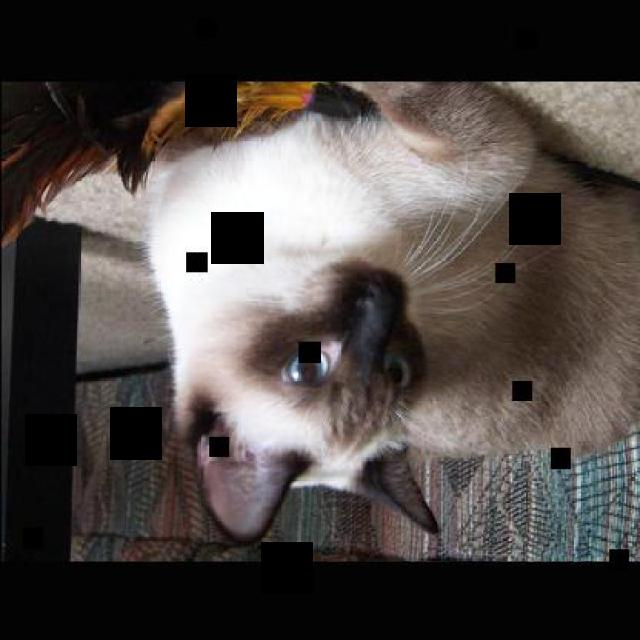unauthorized: (0, 78, 638, 543)
